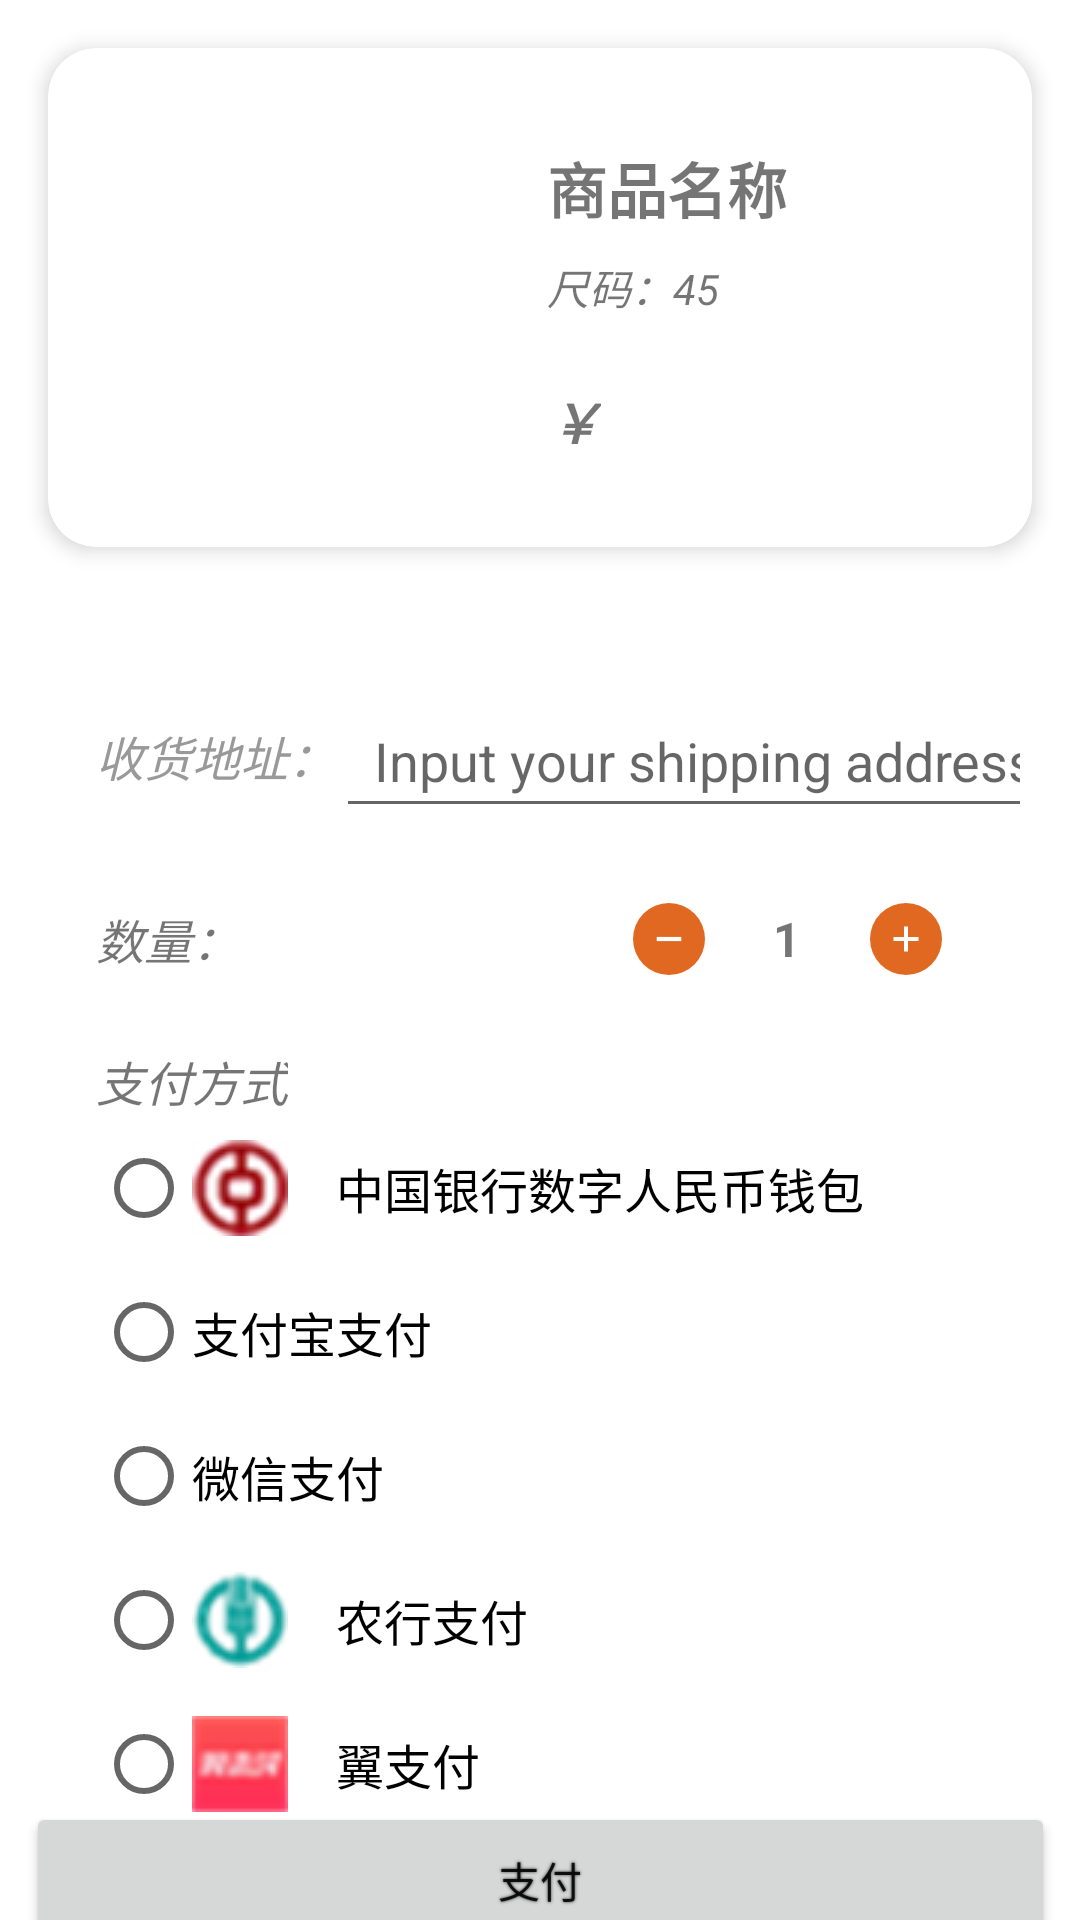

Icons on this 1080px x 1920px Android screen, each with the point to tap as [x,y]:
add: [906,939]
sub: [669,939]
